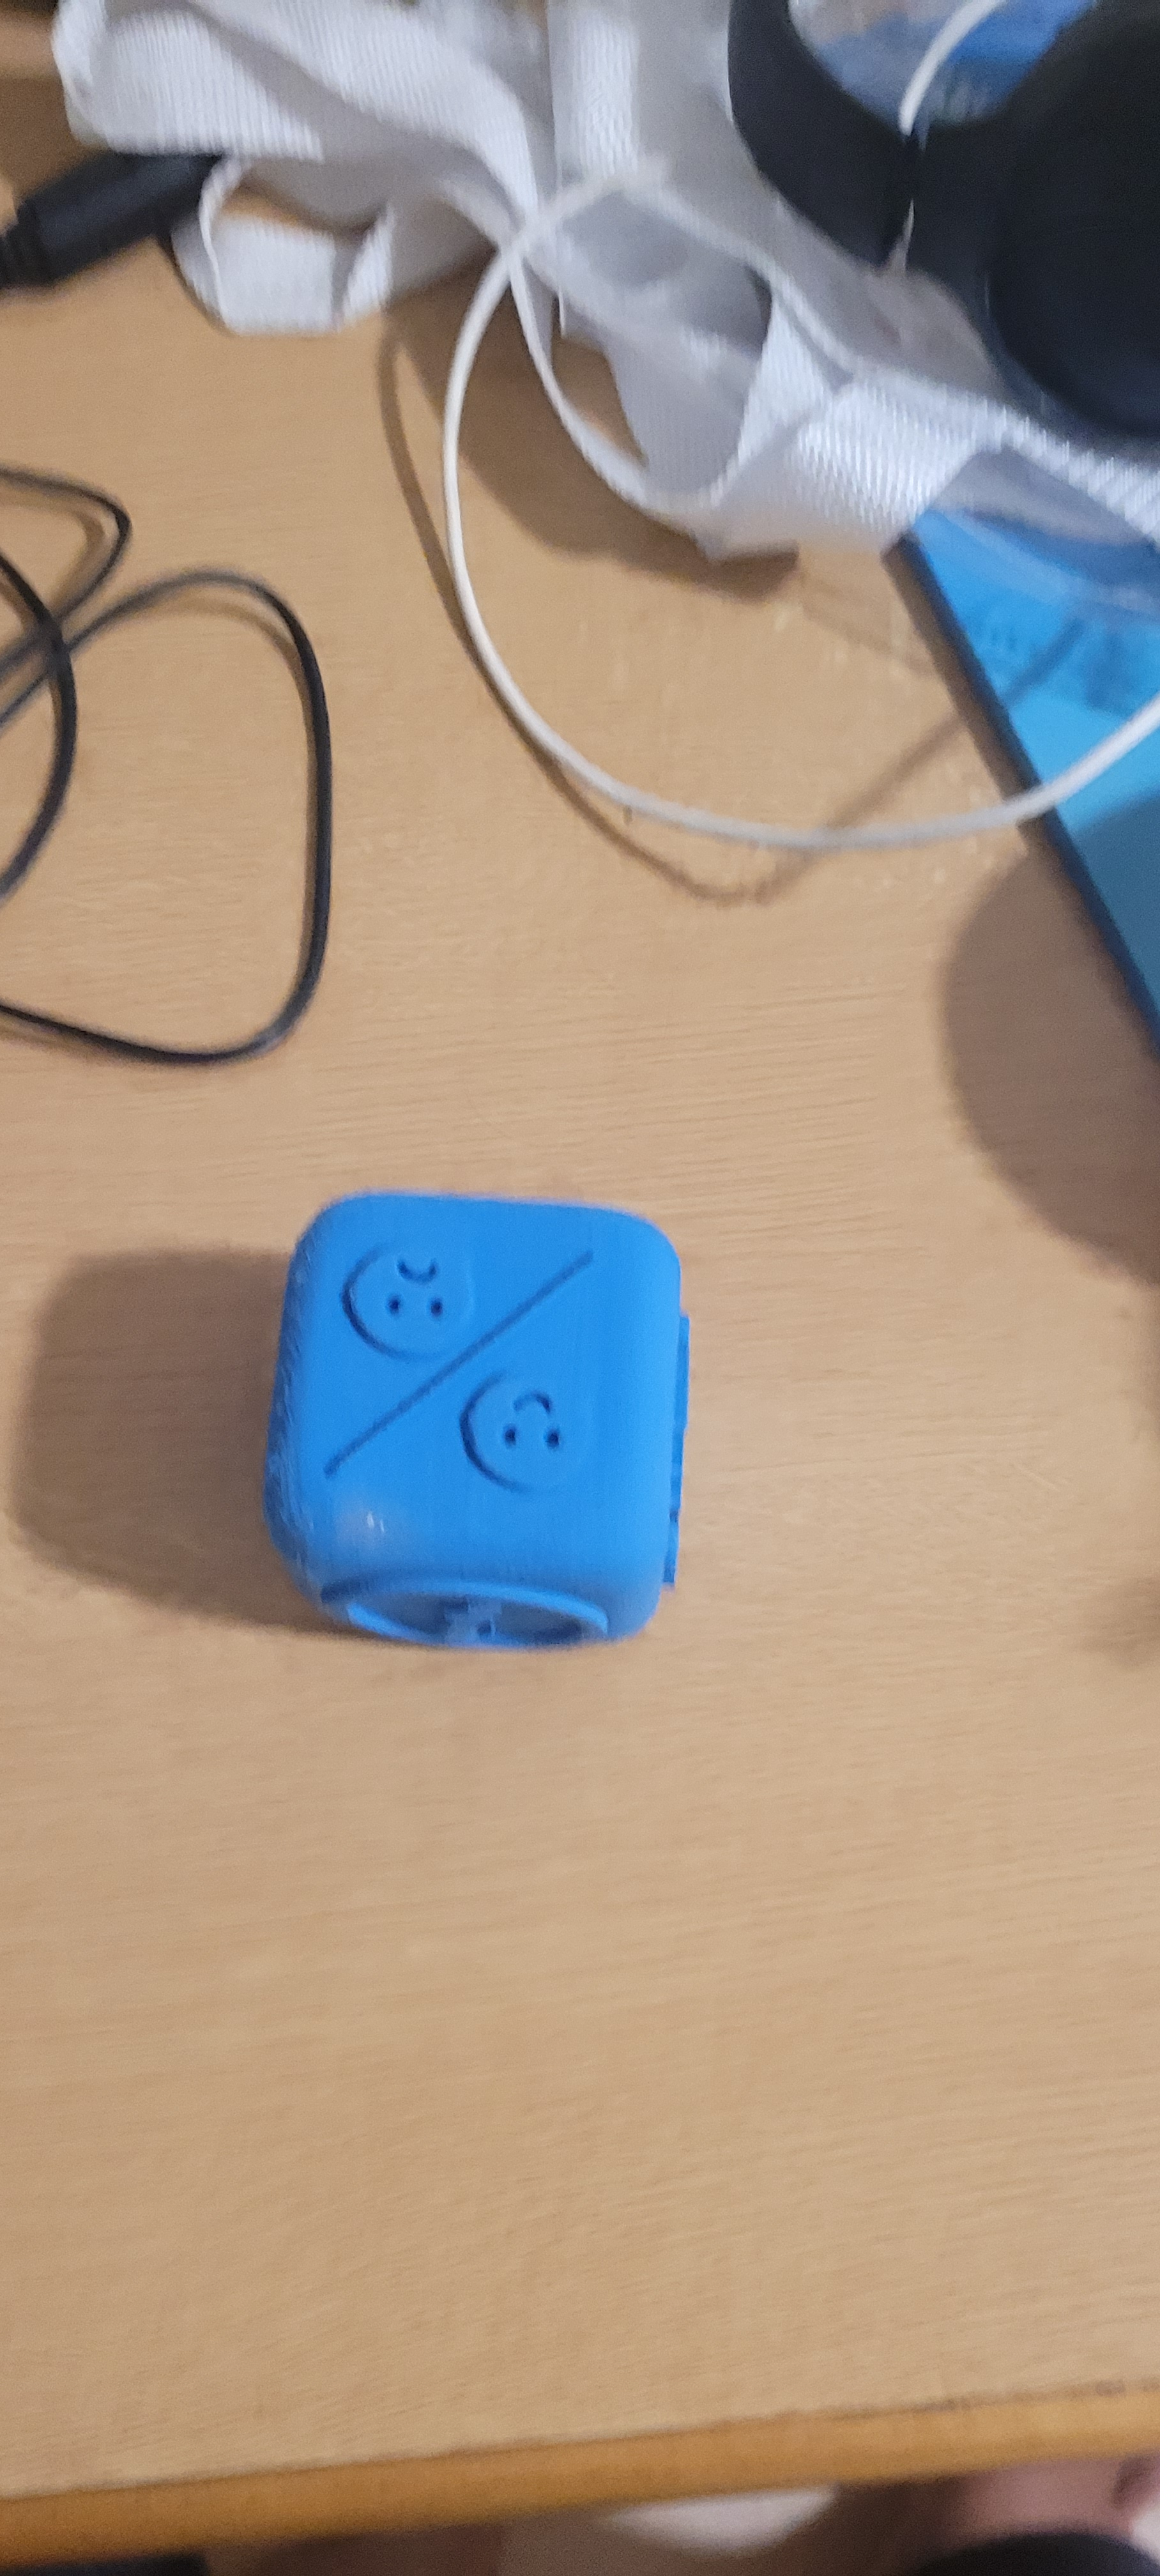Like/Dislike: (307, 1166, 629, 1546)
